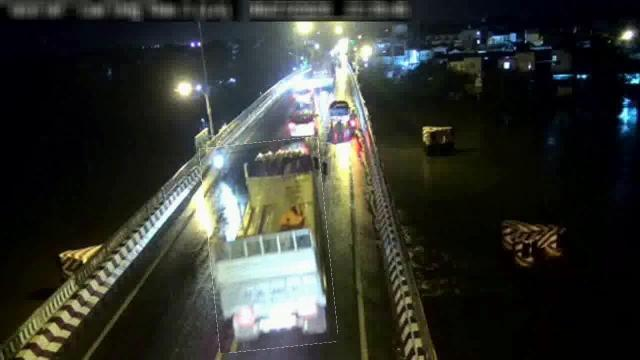Bike: (348, 108, 358, 130)
Truck: (204, 139, 334, 351)
